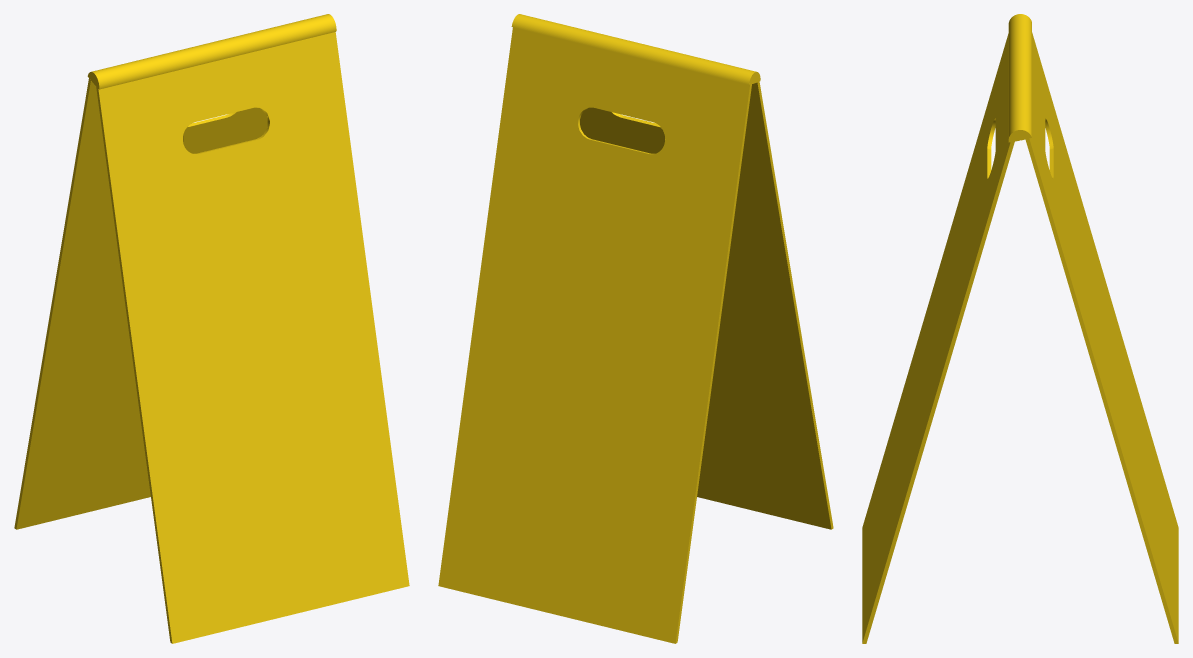
File: wetsign.glb
3 renders of one model, left to right at view 1: azimuth 30°, elevation 25°; view 2: azimuth 150°, elevation 25°; view 3: azimuth 270°, elevation 25°, orthographic.
Visible parts, largest first — view 1: front_panel, back_panel; view 2: back_panel, front_panel; view 3: front_panel, back_panel.
Boxes of the visible parts, x1,y1,x2,y2 form: front_panel: [87, 14, 409, 643]; back_panel: [14, 78, 267, 529]; back_panel: [438, 27, 751, 643]; front_panel: [511, 14, 833, 529]; front_panel: [862, 14, 1031, 643]; back_panel: [1025, 32, 1178, 643].
Bounding box in the file's own units: 0.3 × 0.6205 × 0.3463.
